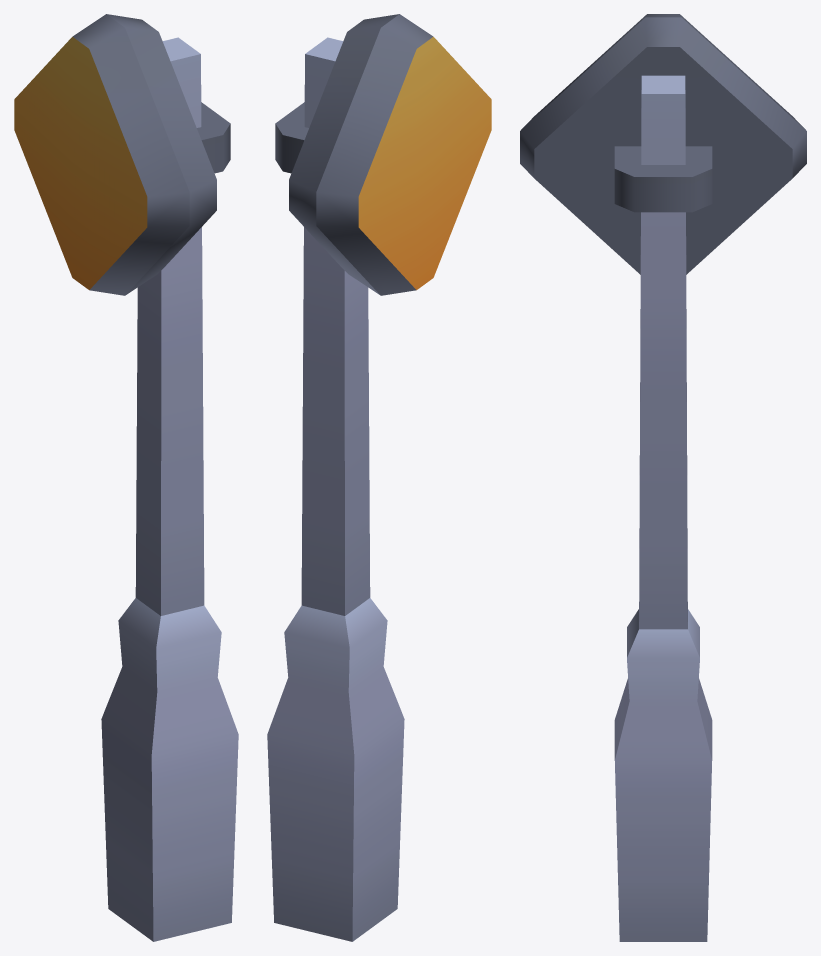
Rendered from k-city-kit-roads-road-sign-warning.glb.
The picture shows the model from 3 angles, left to right: view 1: azimuth 30°, elevation 25°; view 2: azimuth 150°, elevation 25°; view 3: azimuth 270°, elevation 25°; orthographic projection. The views are drawn at different scales.
Parts seen in each view (by area): view 1: road-sign-warning; view 2: road-sign-warning; view 3: road-sign-warning.
Boxes of the visible parts, bbox=[...] form: road-sign-warning: bbox=[14, 14, 238, 941]; road-sign-warning: bbox=[267, 14, 491, 941]; road-sign-warning: bbox=[520, 14, 806, 941].
Bounding box in the file's own units: 0.0774 × 0.4986 × 0.1472.
Materials: 1 (1 with a texture image).
